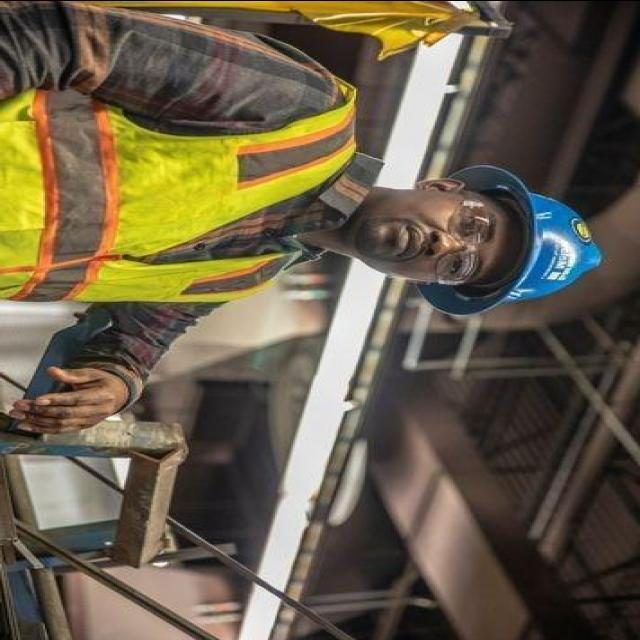helmet: (431, 158, 598, 328)
jacket: (0, 67, 371, 311)
